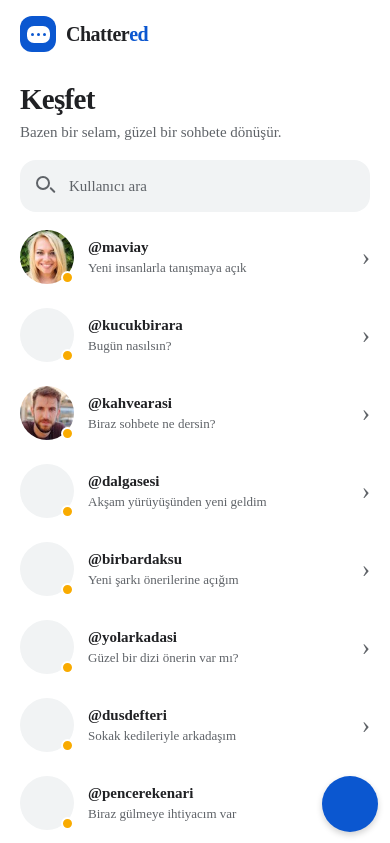
Test case: UserDirectoryScreen › shows an empty state when no user matches the search
Type "zzzz" into the field labelled "Kullanıcı ara". click: coordinates (212, 186)
box: [69,161,354,211]
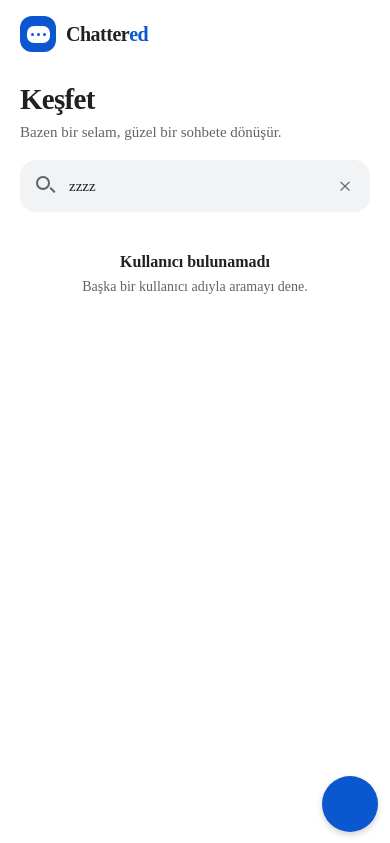
Expected: the text "Kullanıcı bulunamadı" is shown, [120,253,270,271]
